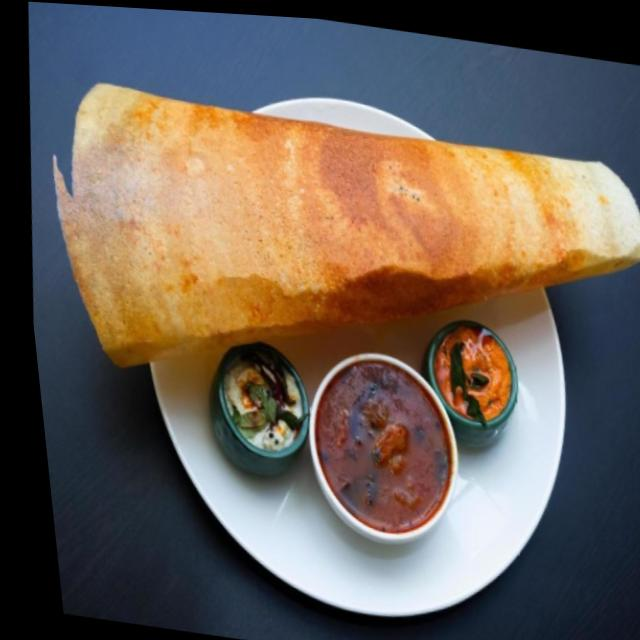DOSA: (52, 78, 640, 366)
RED CHUTNEY: (437, 330, 513, 413)
WHITE CHUTNEY: (228, 360, 301, 451)
